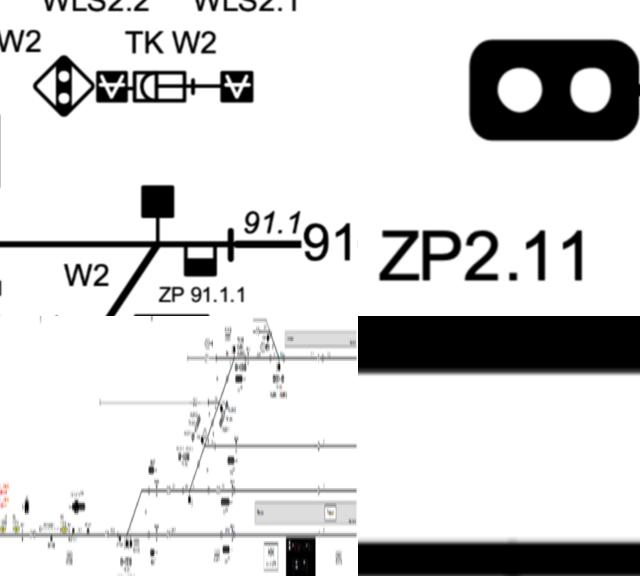mainsignal: (148, 466, 158, 474)
radzaehler: (358, 316, 640, 576), (170, 233, 223, 285), (86, 527, 91, 536), (72, 526, 75, 536), (118, 534, 121, 542)
trackjoint: (232, 482, 236, 498), (147, 528, 151, 541), (232, 528, 236, 541), (225, 373, 229, 385), (197, 458, 200, 472), (210, 418, 214, 428), (322, 352, 325, 365), (147, 486, 151, 494), (282, 355, 286, 363), (207, 485, 210, 495), (220, 530, 223, 540), (244, 354, 247, 364), (269, 355, 272, 363), (214, 442, 216, 452)
tracknumber: (166, 479, 171, 501), (28, 529, 36, 540), (316, 484, 321, 496), (204, 352, 209, 363), (166, 530, 171, 540), (105, 527, 109, 539), (216, 484, 220, 496), (317, 531, 321, 542), (256, 327, 260, 338), (192, 398, 197, 406), (318, 438, 320, 452), (318, 353, 320, 362)
weiche: (136, 176, 180, 258), (198, 434, 206, 452), (276, 352, 282, 373), (187, 486, 193, 507), (124, 529, 129, 550), (217, 397, 223, 414), (128, 527, 132, 552), (266, 330, 272, 342), (232, 345, 236, 360)
